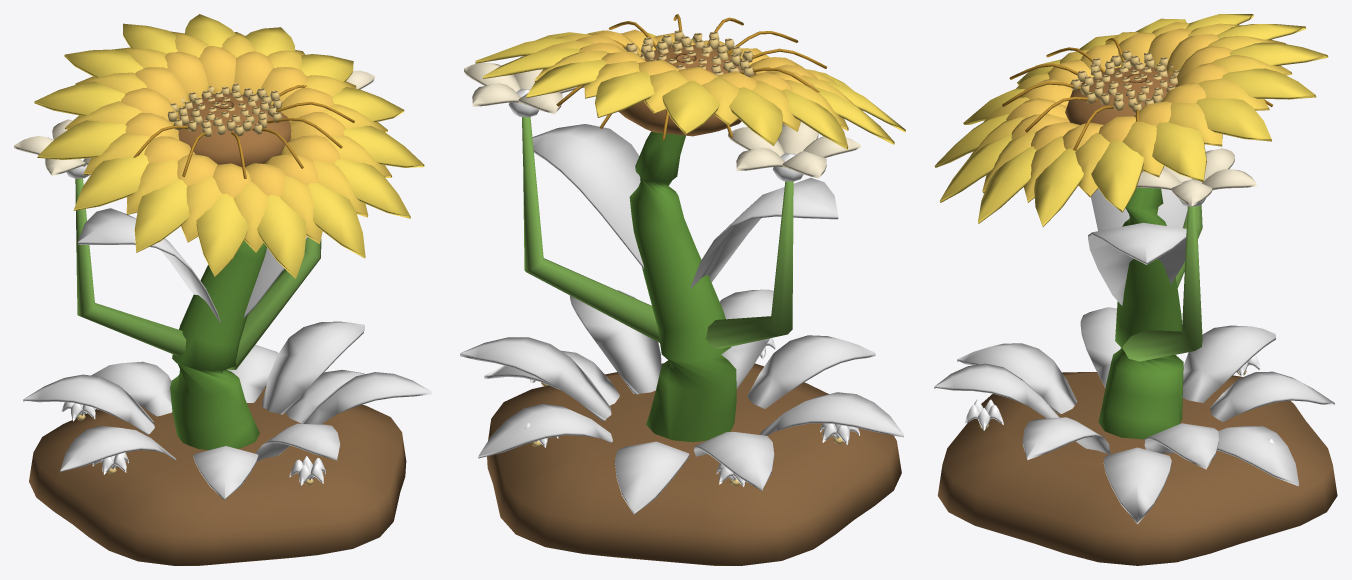
The model's file is blossom-4.fbx.
The picture shows the model from 3 angles, left to right: view 1: azimuth 30°, elevation 25°; view 2: azimuth 150°, elevation 25°; view 3: azimuth 270°, elevation 25°; orthographic projection. The views are drawn at different scales.
Parts seen in each view (by area): view 1: FlowerHead_Petal, Base_Organic, Base_Leaf, Turret_Bark, Core_Organic, Petals_Leaf, Turret_Petal, Base_Petal; view 2: Base_Organic, Base_Leaf, Turret_Bark, FlowerHead_Petal, Petals_Leaf, Turret_Petal, Core_Organic, Base_Petal, Turret_Organic; view 3: Base_Organic, FlowerHead_Petal, Base_Leaf, Turret_Bark, Petals_Leaf, Core_Organic, Turret_Petal, Base_Petal.
Part boxes in pixels (left/top/right/bottom): FlowerHead_Petal: left=34, top=14, right=424, bottom=278; Base_Organic: left=29, top=386, right=406, bottom=565; Base_Leaf: left=23, top=321, right=431, bottom=500; Turret_Bark: left=75, top=178, right=321, bottom=450; Core_Organic: left=167, top=83, right=291, bottom=167; Petals_Leaf: left=78, top=208, right=308, bottom=322; Turret_Petal: left=14, top=70, right=374, bottom=178; Base_Petal: left=61, top=402, right=325, bottom=485; Base_Organic: left=487, top=363, right=901, bottom=565; Base_Leaf: left=460, top=289, right=903, bottom=514; Turret_Bark: left=522, top=117, right=793, bottom=442; FlowerHead_Petal: left=475, top=29, right=905, bottom=149; Petals_Leaf: left=532, top=124, right=838, bottom=288; Turret_Petal: left=464, top=14, right=860, bottom=178; Core_Organic: left=619, top=30, right=756, bottom=136; Base_Petal: left=525, top=338, right=859, bottom=486; Turret_Organic: left=508, top=89, right=803, bottom=181; Base_Organic: left=937, top=370, right=1337, bottom=565; FlowerHead_Petal: left=934, top=14, right=1328, bottom=226; Base_Leaf: left=934, top=307, right=1334, bottom=524; Turret_Bark: left=1098, top=187, right=1202, bottom=439; Petals_Leaf: left=1088, top=188, right=1187, bottom=305; Core_Organic: left=1065, top=50, right=1179, bottom=124; Turret_Petal: left=1002, top=37, right=1272, bottom=205; Base_Petal: left=964, top=355, right=1274, bottom=443.
Size of the model in its own units: 97.28 by 110 by 88.94.
